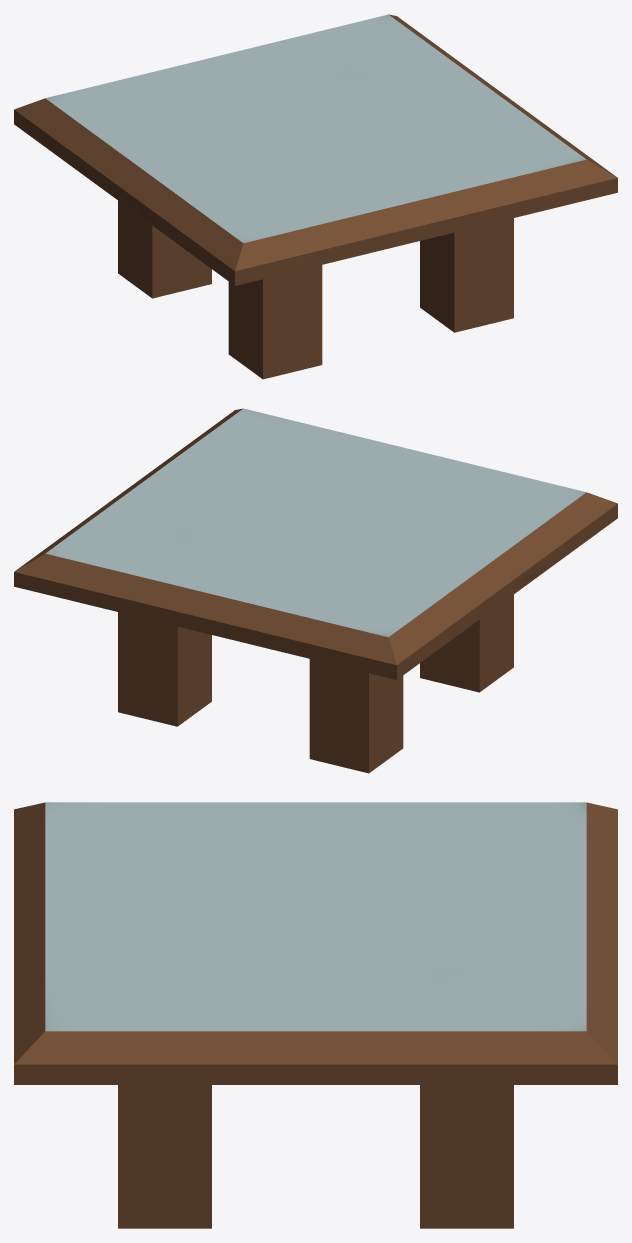
Rendered from Mesa.fbx.
The picture shows the model from 3 angles, top to bottom: view 1: azimuth 30°, elevation 25°; view 2: azimuth 150°, elevation 25°; view 3: azimuth 270°, elevation 25°; orthographic projection. The views are drawn at different scales.
Parts seen in each view (by area): view 1: Cube; view 2: Cube; view 3: Cube.
Boxes of the visible parts, <box> form: Cube: <box>14,14,617,379</box>; Cube: <box>14,408,617,773</box>; Cube: <box>14,802,617,1228</box>.
Bounding box in the file's own units: 1026 × 428 × 1026.
Materials: 1 (1 with a texture image).
